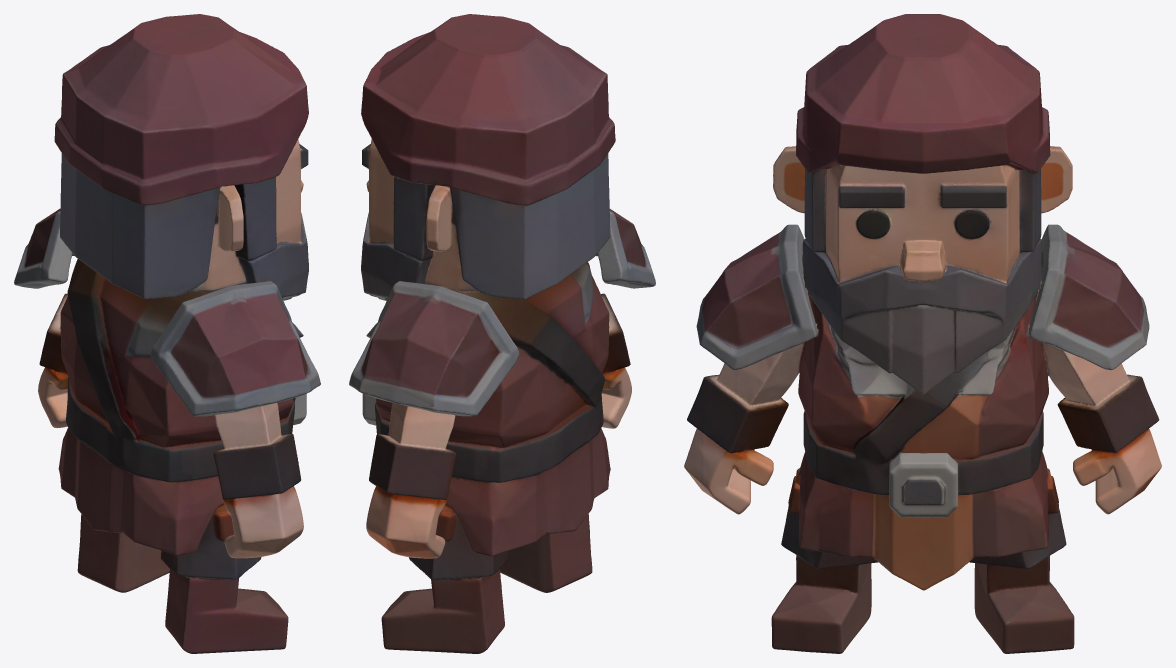
File: dwarf.glb
3 views of the same model, side by side, from view 1: azimuth 30°, elevation 25°; view 2: azimuth 150°, elevation 25°; view 3: azimuth 270°, elevation 25° (orthographic). The views are drawn at different scales.
Parts seen in each view (by area): view 1: tripo_node_ca78a981-f9e3-4a03-9cbb-37c9a44a1ce7; view 2: tripo_node_ca78a981-f9e3-4a03-9cbb-37c9a44a1ce7; view 3: tripo_node_ca78a981-f9e3-4a03-9cbb-37c9a44a1ce7.
Part boxes in pixels (x1,y1,x2,y2): tripo_node_ca78a981-f9e3-4a03-9cbb-37c9a44a1ce7: (14, 14, 320, 653); tripo_node_ca78a981-f9e3-4a03-9cbb-37c9a44a1ce7: (349, 14, 655, 653); tripo_node_ca78a981-f9e3-4a03-9cbb-37c9a44a1ce7: (684, 14, 1161, 653).
Bounding box in the file's own units: 0.3883 × 1 × 0.723.
1 material, 1 textured.
